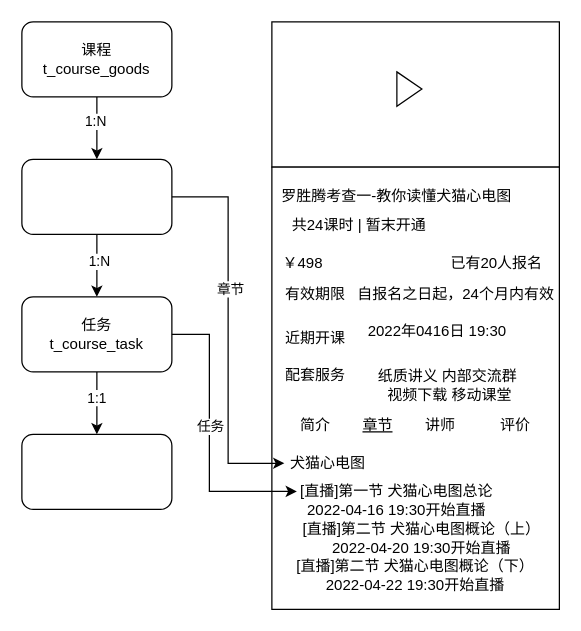
This 581x631 diagram has some shape labels left out. The shapes that lost their labels are listed below. From the top down, each one's box as (x1, y1, x2, y2) in pixels, then its label:
(21, 158, 172, 234): 章节 t_course_chapter
(21, 433, 172, 509): 任务文件t_course_task_file
